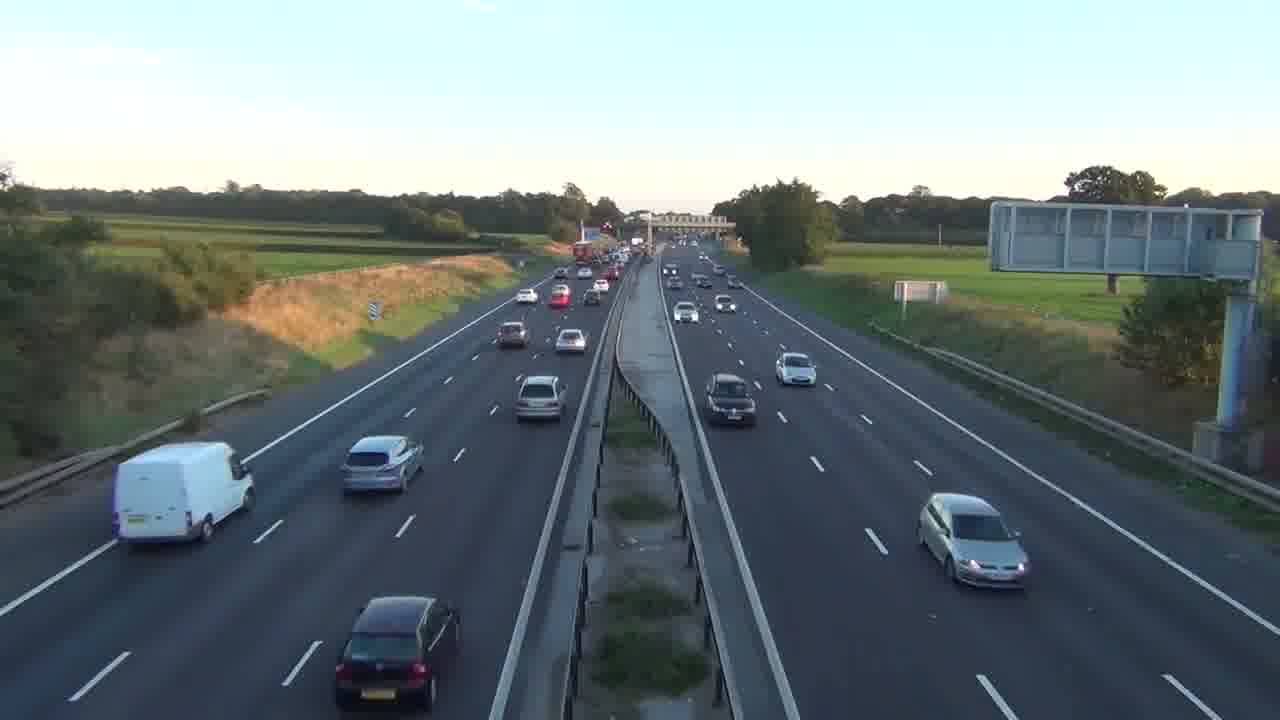car: (333, 594, 459, 710), (916, 491, 1031, 590), (341, 433, 424, 494), (703, 372, 758, 426), (513, 374, 566, 422), (775, 351, 817, 387), (495, 319, 530, 349), (555, 328, 587, 354)
truck: (111, 440, 255, 545)
